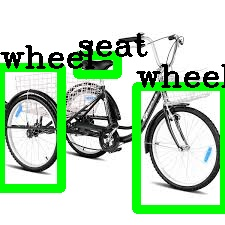seat: (77, 55, 117, 74)
wheel: (136, 86, 224, 209), (0, 67, 61, 188)
